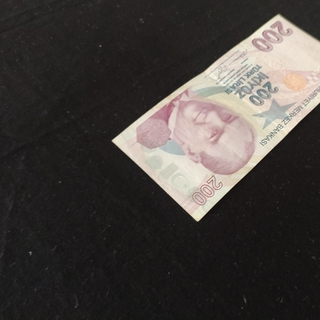200TLFront: (111, 13, 320, 222)
